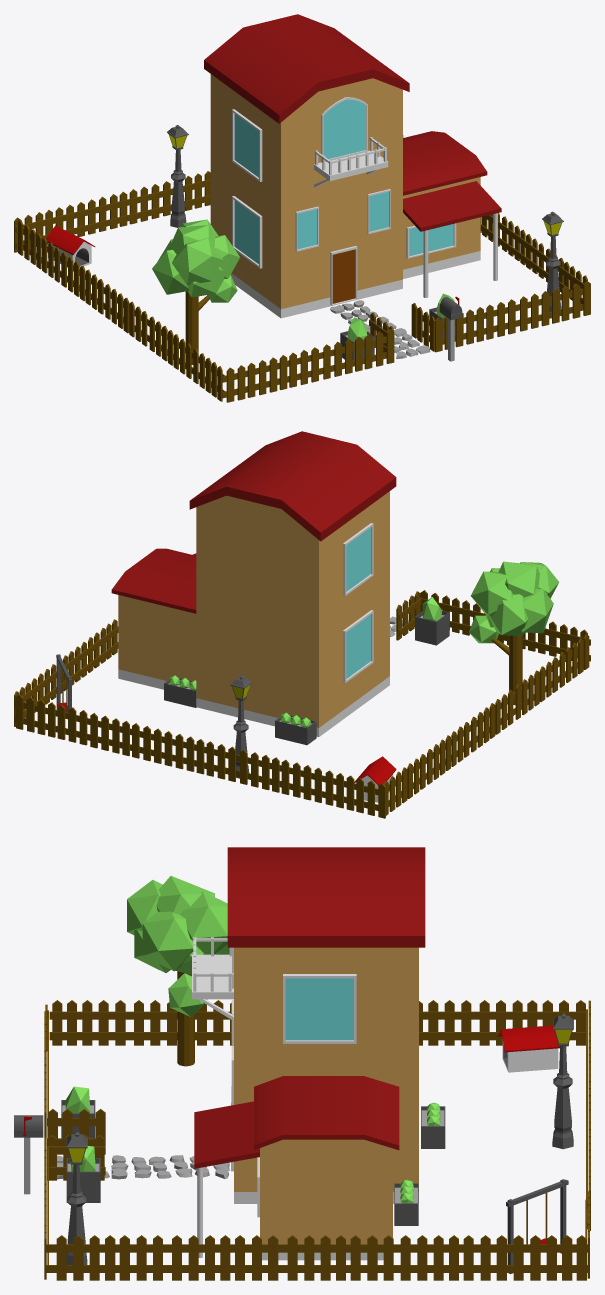
3 renders of one model, top to bottom at view 1: azimuth 30°, elevation 25°; view 2: azimuth 150°, elevation 25°; view 3: azimuth 270°, elevation 25°, orthographic. The views are drawn at different scales.
Parts seen in each view (by area): view 1: ust1y; view 2: ust1y; view 3: ust1y.
Boxes of the visible parts, box(x1,y1,x2,y2) form: ust1y: box(14, 14, 590, 402); ust1y: box(14, 431, 590, 818); ust1y: box(14, 847, 590, 1280).
Size of the model in its own units: 25.84 by 15.23 by 25.76.
